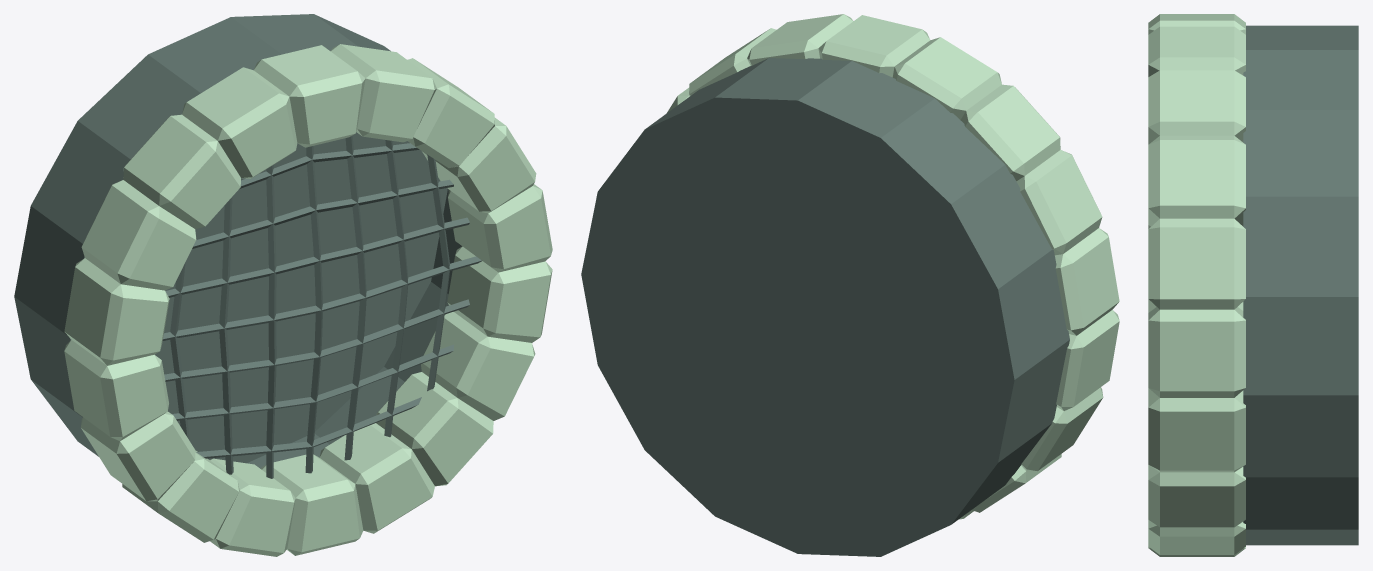
Rendered from sewergrate.fbx.
The picture shows the model from 3 angles, left to right: view 1: azimuth 30°, elevation 25°; view 2: azimuth 150°, elevation 25°; view 3: azimuth 270°, elevation 25°; orthographic projection. The views are drawn at different scales.
Parts seen in each view (by area): view 1: sewergrate; view 2: sewergrate; view 3: sewergrate.
Boxes of the visible parts, <box> form: sewergrate: <box>14,14,552,556</box>; sewergrate: <box>581,14,1119,556</box>; sewergrate: <box>1148,14,1358,556</box>.
Bounding box in the file's own units: 1.87 × 1.86 × 0.7233.
